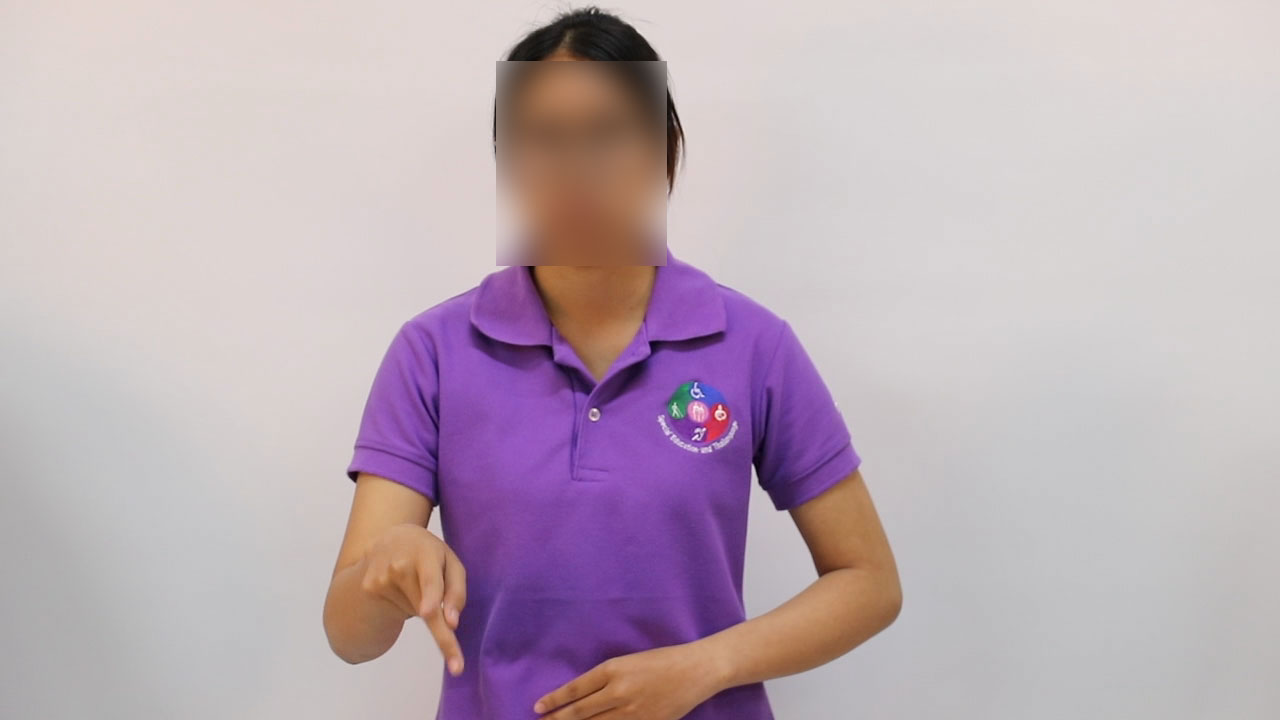por: (350, 510, 480, 685)
